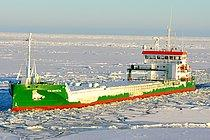Ship: (8, 42, 203, 116)
